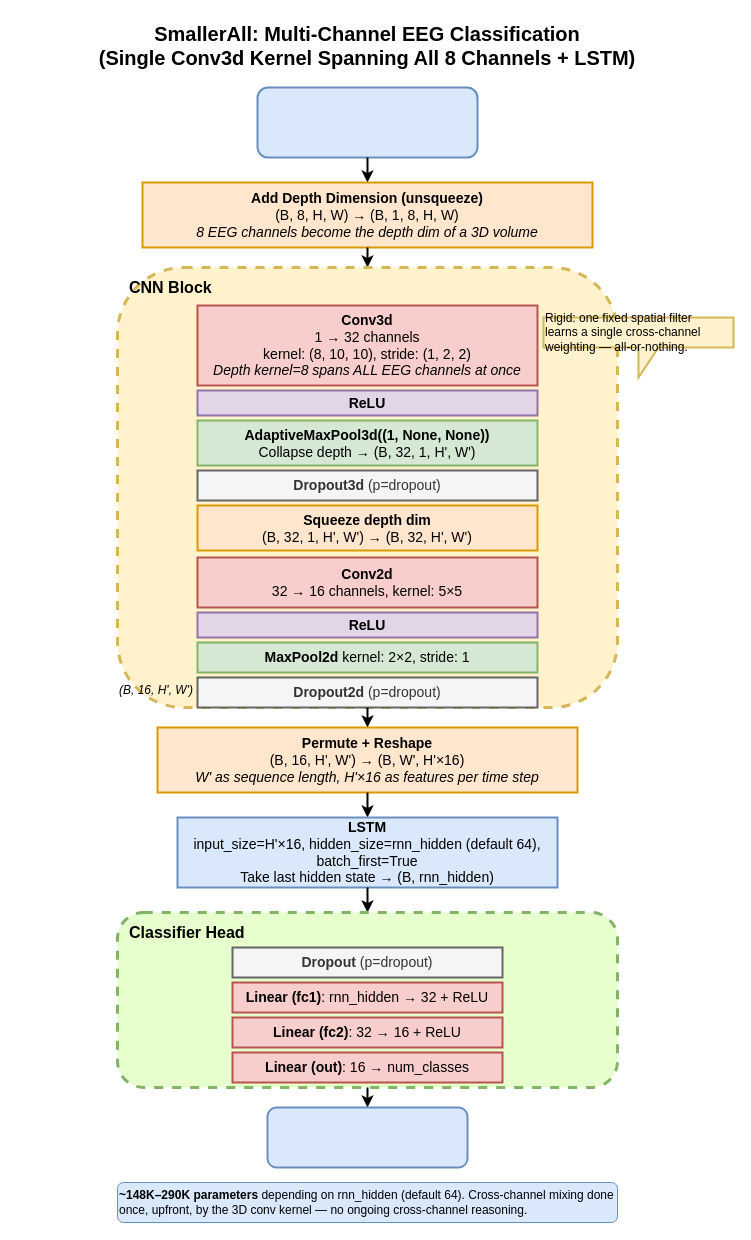
Image size: 751x1240. Some labels were removed from this diagram. The centre of each missing label's shape, as x and y in pixels:
"Input 8-Channel Spectrograms (B, 8, H, W)" belongs at (367,122).
"Output Logits (B, num_classes)" belongs at (367,1137).
